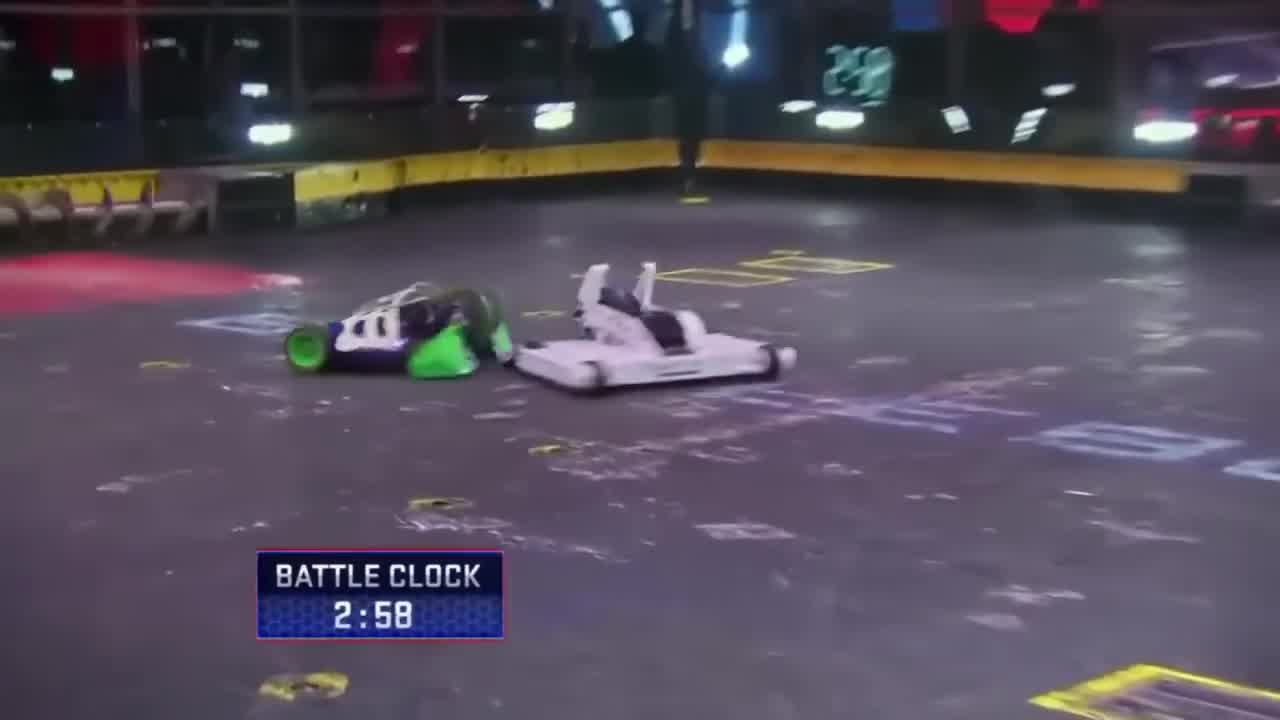combatbot: (506, 262, 795, 397), (283, 280, 511, 379)
